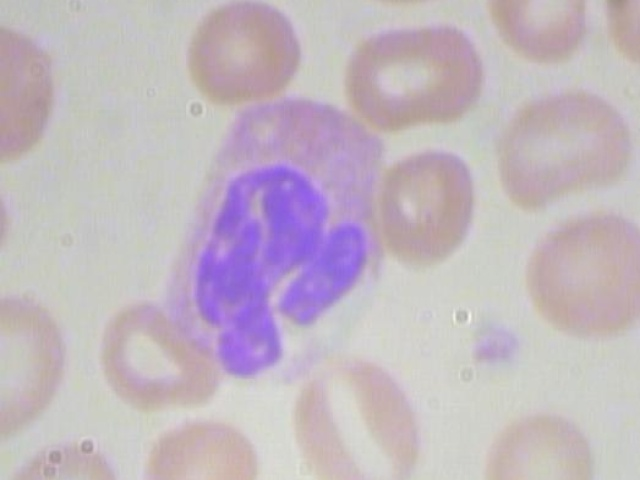RBC: (511, 194, 640, 355), (342, 141, 499, 272), (80, 288, 237, 419), (336, 8, 492, 138), (489, 82, 640, 213), (292, 347, 424, 480), (0, 19, 92, 167), (181, 0, 305, 101), (0, 286, 71, 442), (482, 397, 606, 480), (128, 417, 277, 480), (482, 0, 604, 71), (591, 0, 640, 78), (331, 0, 488, 16)
WBC: (127, 94, 403, 393)
